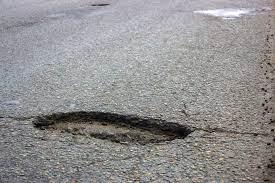pothole: (30, 106, 198, 145)
